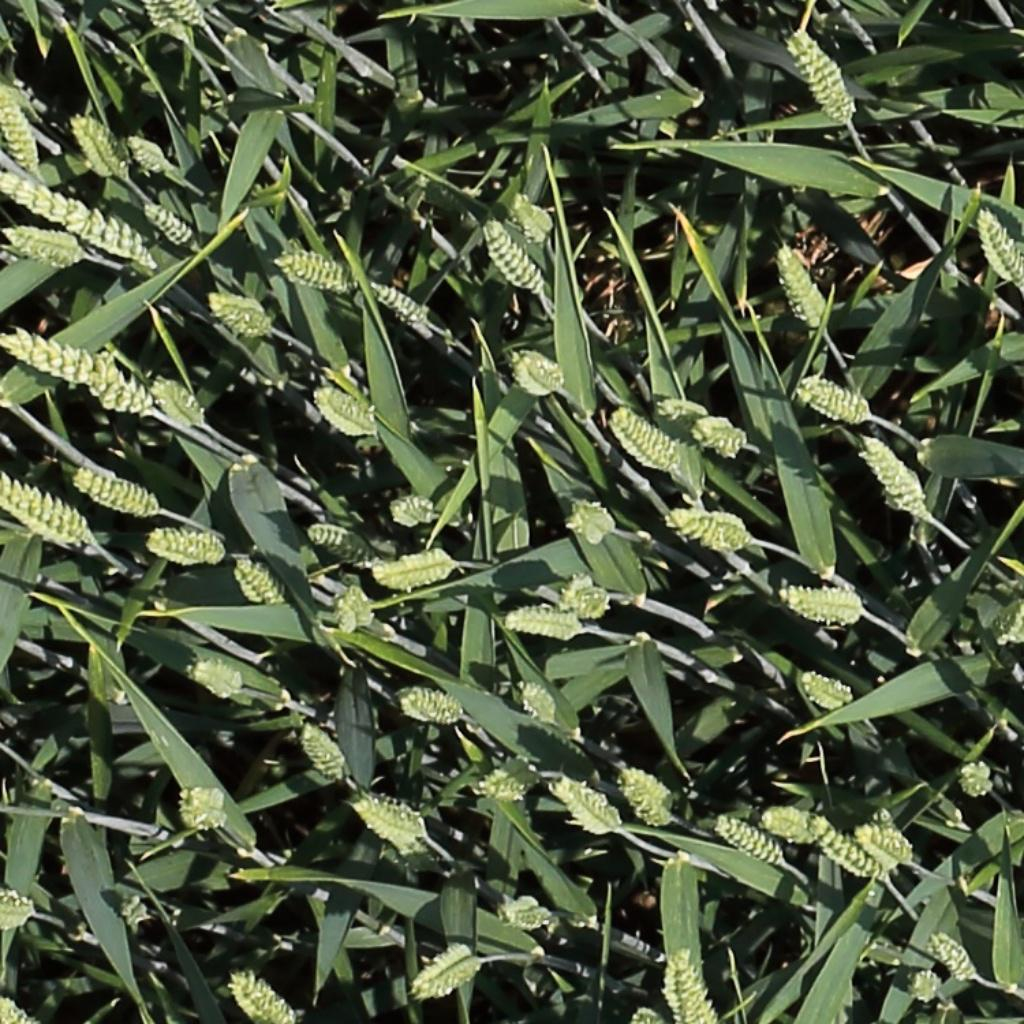0-0: (0, 167, 151, 262), (0, 331, 154, 410), (789, 27, 858, 126), (0, 473, 91, 543), (860, 432, 933, 518), (481, 214, 548, 299), (775, 238, 832, 333), (498, 595, 592, 648), (402, 933, 482, 993), (782, 575, 865, 631), (974, 202, 1024, 293), (68, 107, 128, 182), (809, 819, 880, 882), (610, 408, 679, 471), (72, 468, 159, 516), (551, 778, 622, 836), (0, 79, 42, 177), (297, 719, 353, 787), (144, 524, 227, 569), (670, 943, 715, 1024), (869, 805, 921, 875), (716, 817, 786, 868), (797, 378, 875, 423), (229, 970, 293, 1022), (667, 510, 750, 550), (375, 547, 463, 584), (615, 774, 673, 830), (927, 928, 981, 987), (315, 386, 380, 435), (232, 555, 286, 611), (307, 525, 380, 566), (275, 252, 353, 290), (4, 225, 81, 262), (507, 185, 554, 245), (150, 378, 207, 427), (356, 800, 423, 841), (368, 279, 430, 323), (141, 199, 197, 247), (208, 294, 271, 333), (186, 652, 241, 696), (510, 349, 562, 395), (694, 420, 755, 459), (561, 569, 613, 614), (517, 678, 562, 730), (499, 891, 561, 928), (621, 767, 675, 808), (143, 2, 191, 47), (989, 589, 1024, 650), (401, 690, 464, 723), (337, 580, 372, 638), (124, 131, 173, 172), (800, 673, 854, 709), (763, 813, 821, 846), (180, 794, 228, 832), (958, 751, 994, 797), (572, 501, 615, 536), (0, 891, 33, 929), (912, 969, 944, 1006), (170, 0, 211, 28), (656, 400, 712, 420), (389, 498, 435, 521), (0, 993, 28, 1024), (632, 1003, 663, 1024)
